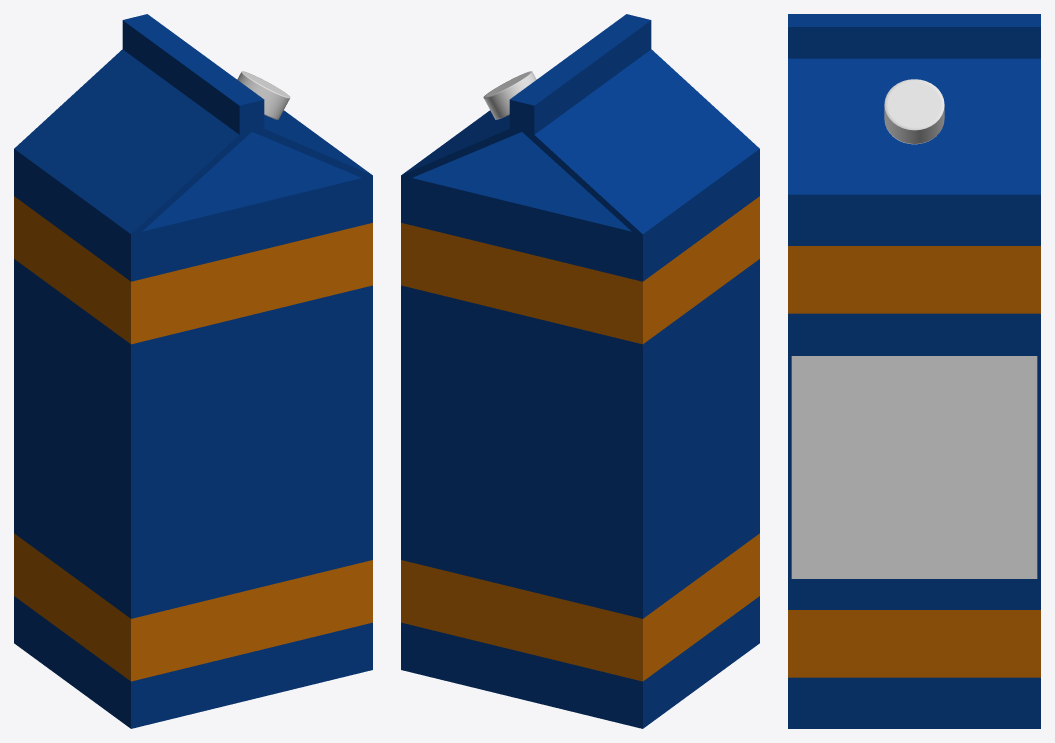
The model's file is Cartón de jugo.fbx.
3 renders of one model, left to right at view 1: azimuth 30°, elevation 25°; view 2: azimuth 150°, elevation 25°; view 3: azimuth 270°, elevation 25°, orthographic. The views are drawn at different scales.
Visible parts, largest first — view 1: Cube, Cylinder; view 2: Cube, Cylinder; view 3: Cube, Marcas Piratas-06, Cylinder.
Boxes of the visible parts, left/top/right/bottom form: Cube: left=14, top=14, right=372, bottom=728; Cylinder: left=237, top=71, right=290, bottom=119; Cube: left=401, top=14, right=759, bottom=728; Cylinder: left=483, top=71, right=536, bottom=119; Cube: left=788, top=14, right=1040, bottom=728; Marcas Piratas-06: left=791, top=356, right=1037, bottom=578; Cylinder: left=884, top=79, right=944, bottom=144.
Size of the model in its own units: 235 by 552 by 196.
